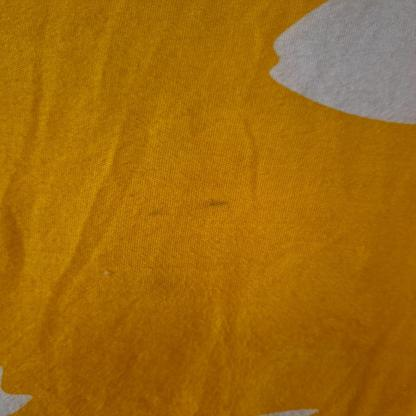spot: (198, 194, 227, 208)
